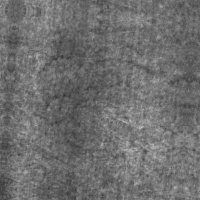crazing: (38, 35, 189, 87), (29, 80, 125, 159)
